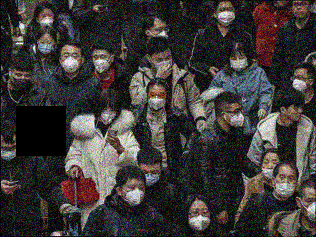mask_weared_incorrect: (261, 156, 279, 183)
with_mask: (274, 171, 297, 200), (188, 205, 212, 232), (122, 181, 146, 208), (139, 166, 163, 189), (152, 52, 174, 76), (61, 49, 81, 74), (216, 5, 237, 28), (147, 89, 168, 112), (9, 70, 32, 91), (90, 52, 111, 74), (1, 140, 21, 162), (301, 193, 315, 224), (291, 72, 309, 95), (228, 105, 246, 128), (229, 53, 249, 73), (150, 23, 171, 42), (98, 104, 116, 126), (39, 11, 54, 29)
without_mask: (288, 101, 305, 123), (291, 1, 310, 19)
